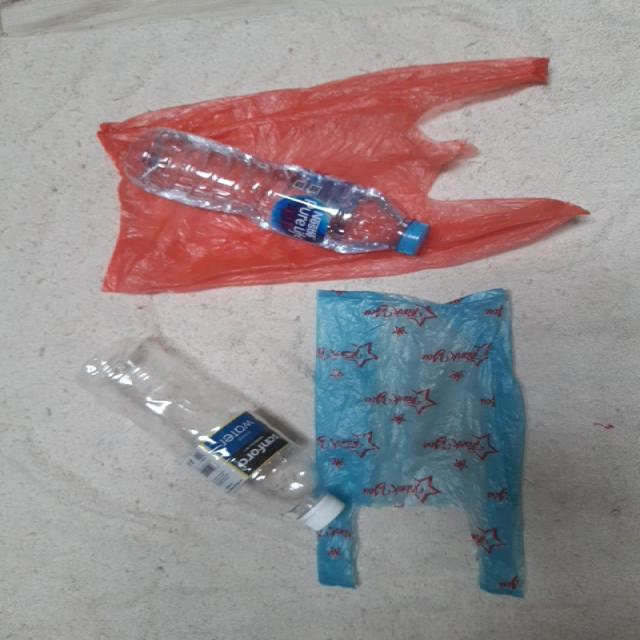Single-layer Plastic: (99, 58, 586, 293), (315, 289, 525, 596)
